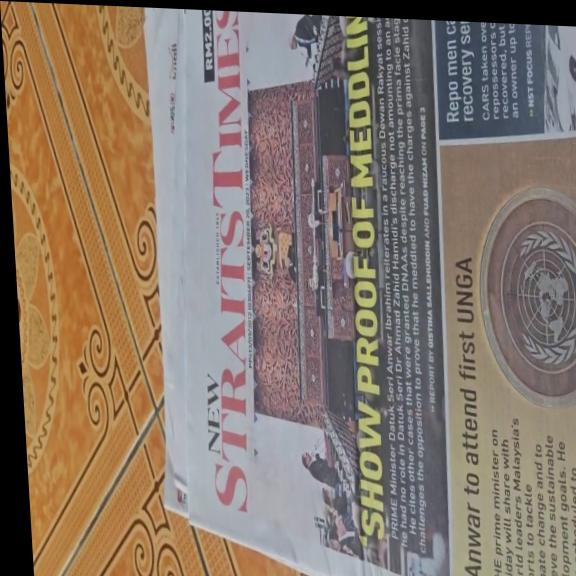Kertas: (141, 14, 576, 530)
